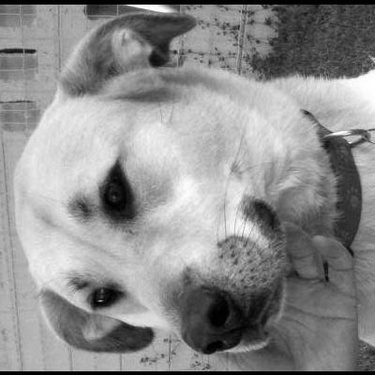dog: (12, 8, 363, 357)
